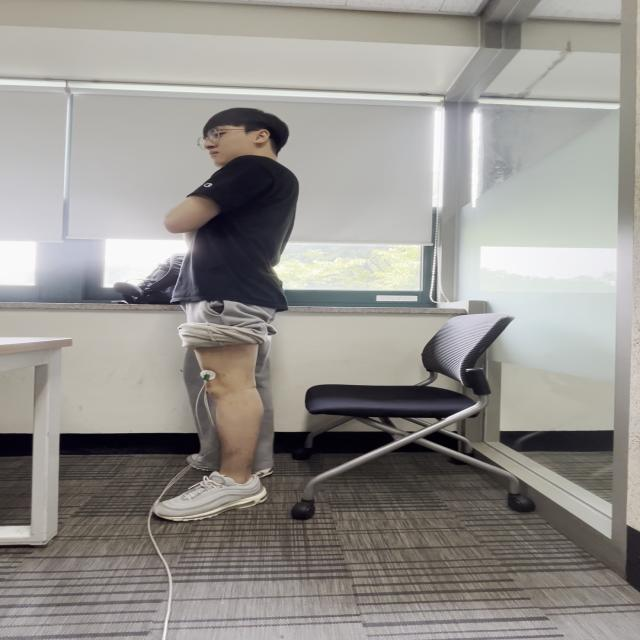stand: (176, 284, 278, 512)
